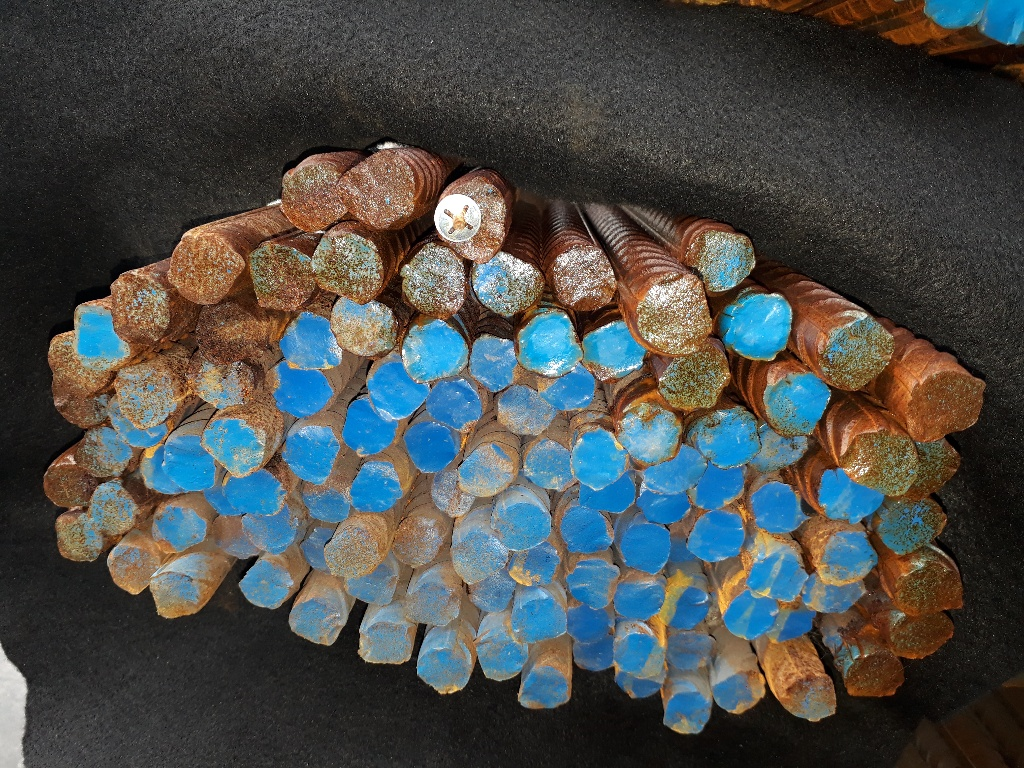dipstick: (344, 153, 417, 223), (170, 235, 244, 303), (644, 277, 712, 351), (828, 318, 894, 388), (910, 374, 983, 437), (441, 187, 503, 259), (315, 232, 379, 300), (665, 341, 727, 410), (250, 245, 315, 308), (405, 248, 463, 317), (475, 255, 540, 316), (852, 430, 913, 495), (282, 163, 342, 229), (731, 297, 791, 360), (554, 251, 615, 312), (520, 313, 581, 373), (367, 357, 427, 418), (333, 299, 396, 357), (112, 276, 171, 337), (48, 334, 106, 396), (771, 375, 828, 436), (404, 324, 465, 379), (194, 307, 256, 361), (703, 405, 756, 467), (584, 321, 642, 377), (283, 313, 338, 370), (700, 233, 755, 290), (263, 370, 331, 416), (116, 370, 169, 429), (881, 506, 946, 554), (821, 470, 881, 522), (75, 307, 127, 366), (623, 407, 678, 462), (283, 426, 337, 482), (571, 432, 628, 485), (896, 566, 962, 611), (190, 358, 249, 408), (343, 400, 396, 455), (916, 438, 963, 500), (403, 421, 456, 474), (209, 421, 263, 473), (890, 615, 954, 658), (689, 510, 744, 560), (223, 473, 284, 517), (497, 385, 549, 436), (349, 463, 403, 511), (568, 558, 619, 608), (643, 451, 702, 494), (754, 484, 805, 533), (783, 673, 838, 718), (818, 537, 875, 580), (324, 530, 376, 577), (526, 439, 573, 491), (419, 645, 467, 695), (471, 337, 516, 390), (428, 384, 481, 429), (165, 441, 213, 490), (452, 535, 502, 582), (750, 551, 800, 598), (78, 431, 130, 476), (623, 527, 670, 576), (394, 520, 440, 570), (562, 510, 613, 555), (461, 450, 513, 494), (842, 657, 901, 695), (89, 485, 136, 532), (500, 504, 550, 548), (514, 598, 565, 641), (406, 584, 459, 625), (716, 668, 765, 712), (152, 511, 206, 550), (611, 634, 660, 676), (665, 632, 717, 671), (108, 547, 156, 589), (695, 469, 744, 510), (519, 667, 568, 708), (803, 580, 865, 612), (47, 464, 90, 510), (57, 516, 100, 562), (290, 601, 337, 643), (659, 587, 706, 629), (725, 598, 774, 638), (474, 638, 525, 676), (665, 692, 711, 734), (242, 564, 288, 605), (150, 572, 193, 614), (618, 579, 663, 619), (759, 432, 806, 470), (301, 485, 349, 522), (364, 623, 409, 661), (345, 572, 400, 603), (509, 550, 557, 585), (246, 516, 293, 551), (53, 397, 108, 426), (552, 372, 593, 410), (568, 607, 612, 641), (640, 495, 691, 524), (575, 485, 634, 509), (769, 611, 815, 641), (432, 476, 463, 519), (137, 447, 164, 496), (570, 642, 612, 673), (214, 517, 244, 558), (470, 585, 512, 611), (301, 526, 324, 570), (616, 679, 661, 701)
